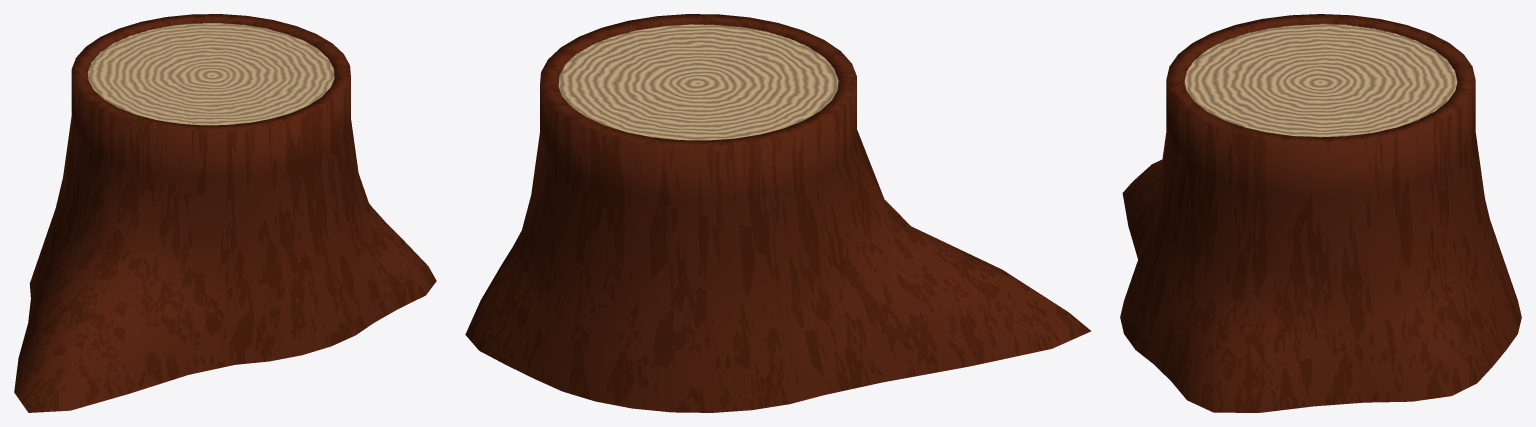
The model's file is tree_stump.fbx.
3 views of the same model, side by side, from view 1: azimuth 30°, elevation 25°; view 2: azimuth 150°, elevation 25°; view 3: azimuth 270°, elevation 25° (orthographic). The views are drawn at different scales.
Visible parts, largest first — view 1: stump; view 2: stump; view 3: stump.
Part boxes in pixels (left/top/right/bottom): stump: left=14, top=14, right=436, bottom=412; stump: left=465, top=14, right=1091, bottom=412; stump: left=1120, top=14, right=1521, bottom=412.
Size of the model in its own units: 365 by 170 by 260.
